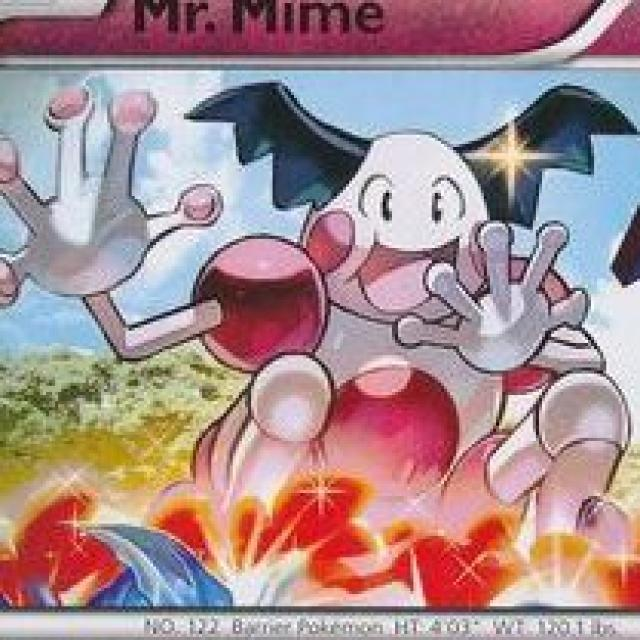MrMime: (176, 82, 623, 530)
